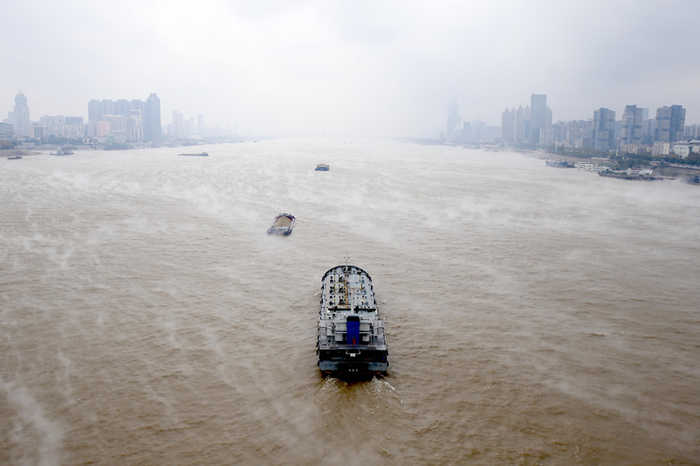boat: (314, 257, 391, 389), (261, 205, 303, 241)
